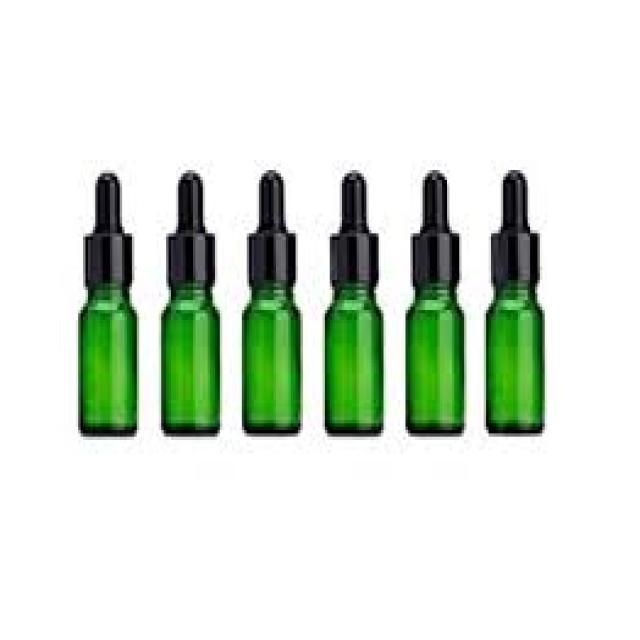Glass: (482, 282, 548, 434), (322, 283, 386, 438), (402, 282, 465, 438), (75, 284, 138, 436), (238, 282, 301, 432), (162, 284, 220, 432)
